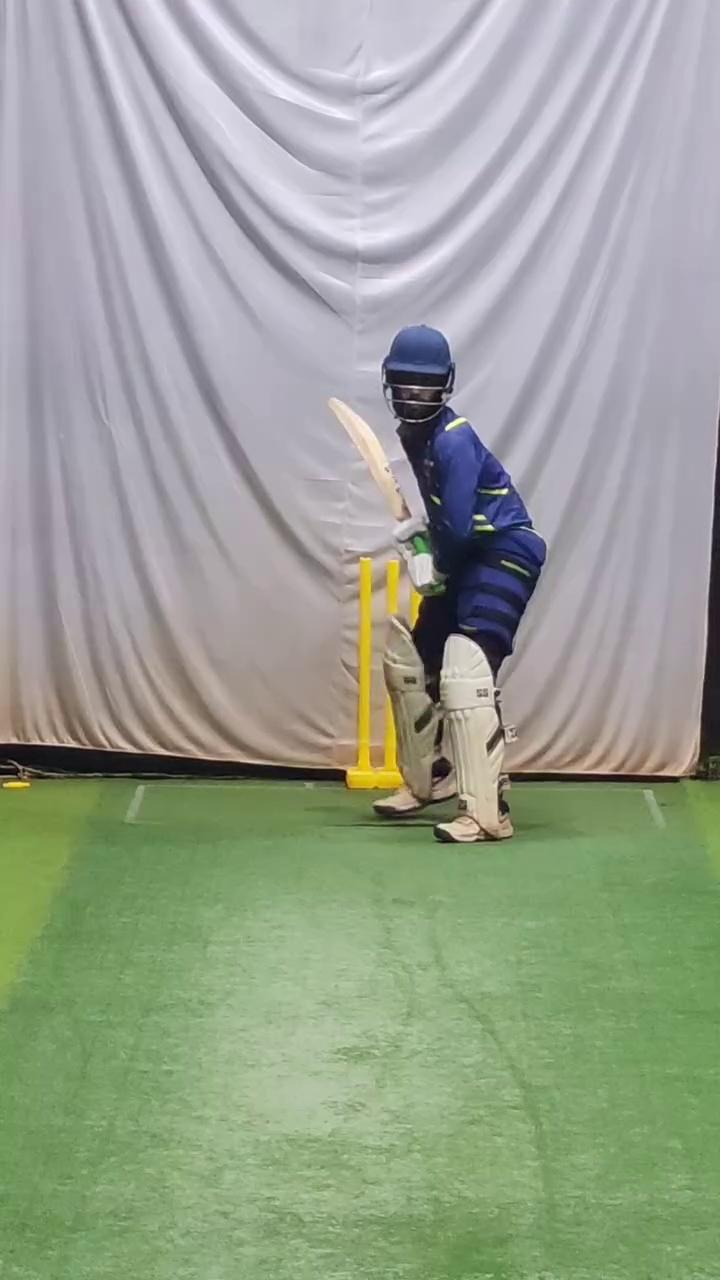bat: (323, 385, 415, 530)
